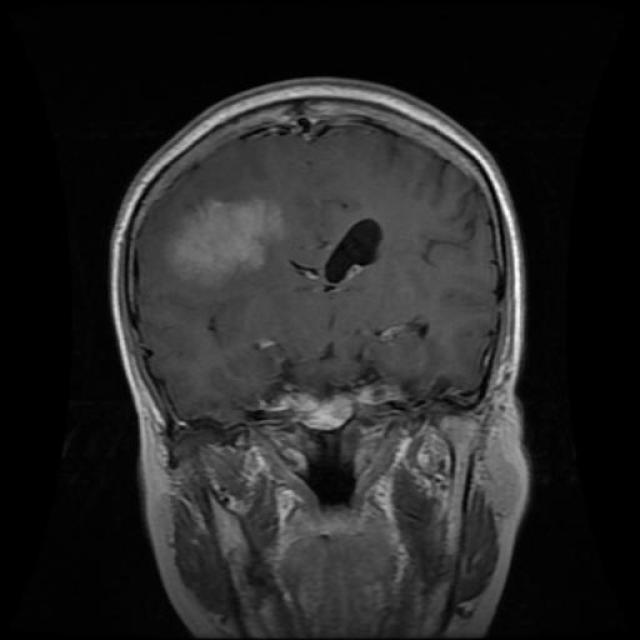meningioma: (172, 201, 284, 286)
